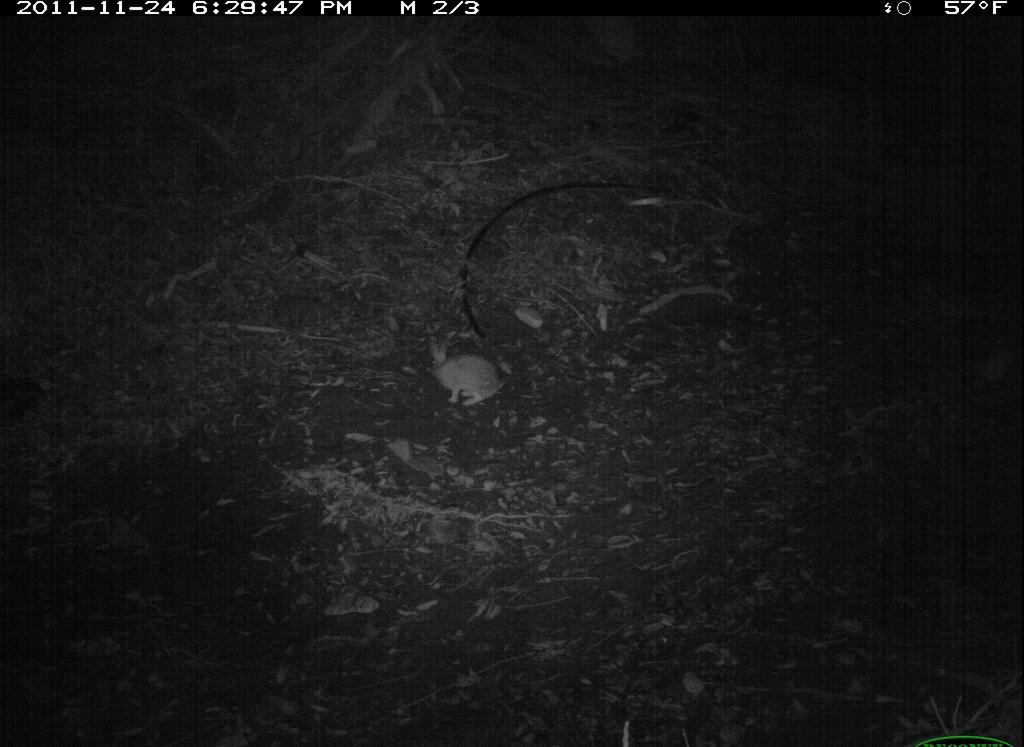rabbit: (413, 321, 527, 440)
